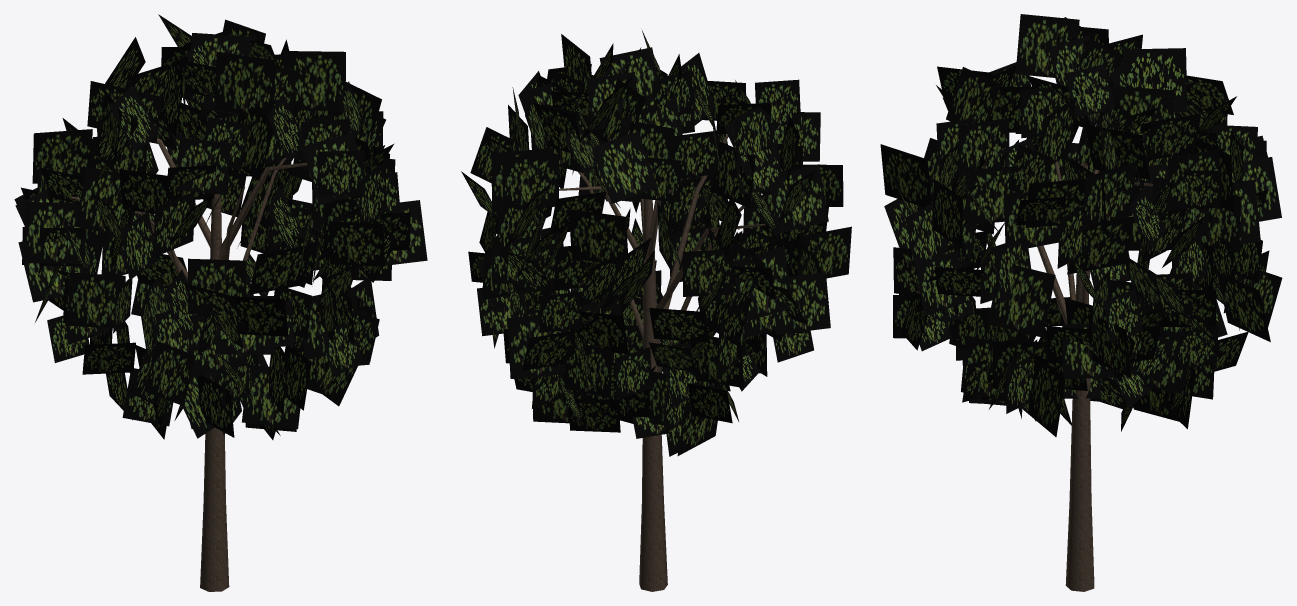
File: tpl_westdike_dike_ash_hi.glb
3 views of the same model, side by side, from view 1: azimuth 30°, elevation 25°; view 2: azimuth 150°, elevation 25°; view 3: azimuth 270°, elevation 25° (orthographic).
Visible parts, largest first — view 1: tpl_westdike_dike_ash_hi; view 2: tpl_westdike_dike_ash_hi; view 3: tpl_westdike_dike_ash_hi.
Part boxes in pixels (x1=…): tpl_westdike_dike_ash_hi: x1=14, y1=14, x2=427, y2=591; tpl_westdike_dike_ash_hi: x1=461, y1=30, x2=851, y2=591; tpl_westdike_dike_ash_hi: x1=880, y1=14, x2=1282, y2=591.
Size of the model in its own units: 12.13 by 17.94 by 11.9.
Materials: 2 (2 with a texture image).
